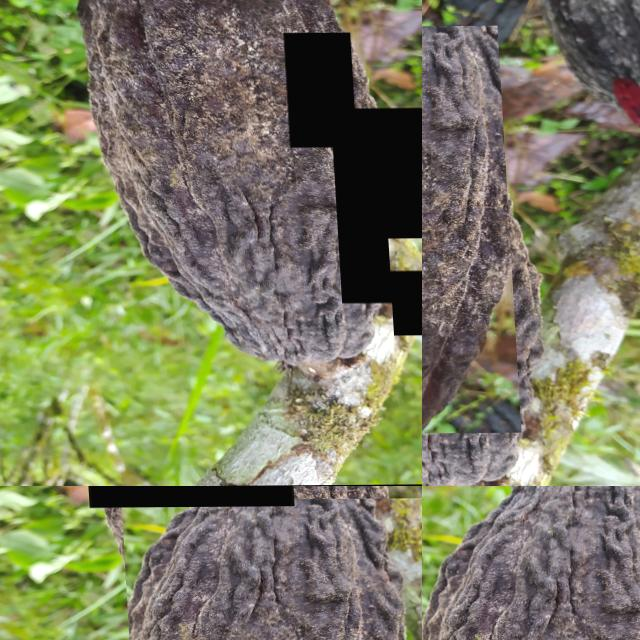Fitoftora: (422, 26, 515, 435), (422, 486, 640, 640)
Monilia: (327, 108, 422, 303), (69, 501, 240, 554), (282, 33, 353, 148), (383, 238, 422, 336)
Sana: (117, 498, 422, 640), (81, 486, 290, 508)
